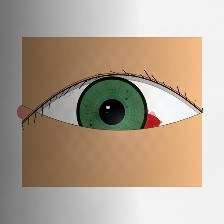hemorrhage_spot: (75, 83, 174, 162)
